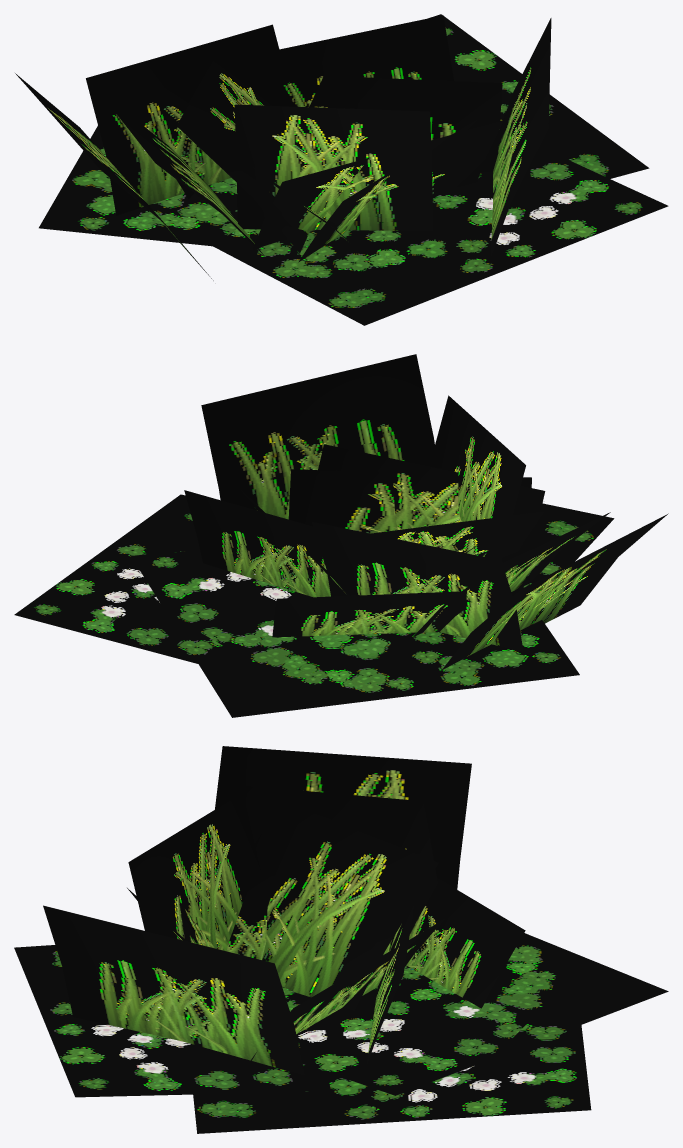
File: Grass_Lawn_A.fbx
3 renders of one model, top to bottom at view 1: azimuth 30°, elevation 25°; view 2: azimuth 150°, elevation 25°; view 3: azimuth 270°, elevation 25°, orthographic. The views are drawn at different scales.
Visible parts, largest first — view 1: Grass_Lawn_A_LOD0; view 2: Grass_Lawn_A_LOD0; view 3: Grass_Lawn_A_LOD0.
Part boxes in pixels (<box>): Grass_Lawn_A_LOD0: <box>15,14,668,325</box>; Grass_Lawn_A_LOD0: <box>14,354,668,717</box>; Grass_Lawn_A_LOD0: <box>14,746,668,1133</box>.
Size of what is drawn, in the model's own units: 0.6983 by 0.1934 by 0.7261.
